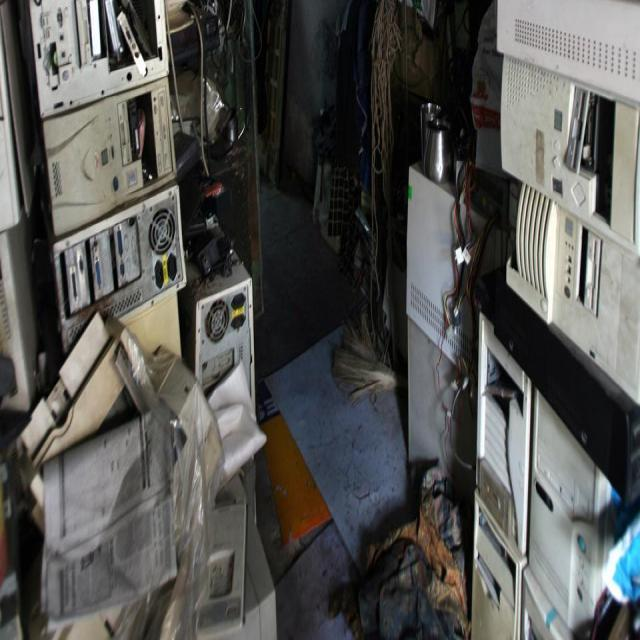Hazard: (54, 0, 280, 640), (428, 0, 637, 640)
